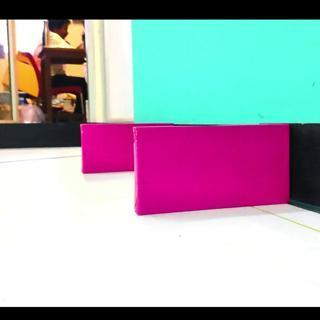xparking: (138, 126, 288, 216), (82, 124, 134, 172)
